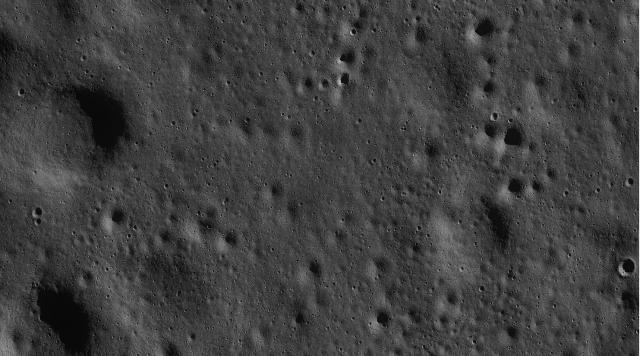crater: (41, 82, 131, 176), (433, 197, 513, 277), (24, 276, 98, 356), (473, 16, 495, 40), (105, 208, 127, 229), (502, 128, 524, 148), (616, 256, 636, 278), (155, 343, 182, 356), (76, 268, 95, 286), (506, 177, 524, 196), (622, 290, 638, 310), (220, 233, 238, 250), (290, 2, 308, 18), (306, 262, 322, 278), (300, 77, 316, 91), (484, 124, 498, 140), (267, 184, 281, 199), (376, 310, 389, 326), (338, 73, 352, 87), (426, 146, 440, 160), (486, 208, 500, 222), (481, 82, 495, 94), (158, 231, 172, 243), (408, 243, 422, 255), (318, 78, 330, 92), (32, 207, 44, 219), (293, 314, 305, 326), (506, 330, 518, 342), (530, 181, 542, 193), (485, 55, 495, 68), (338, 51, 348, 63), (350, 20, 362, 30), (190, 107, 200, 119), (489, 112, 499, 123), (433, 2, 443, 13), (626, 178, 636, 188), (16, 88, 26, 97), (188, 332, 198, 340), (80, 54, 88, 63), (34, 217, 41, 227), (206, 223, 214, 231), (562, 190, 570, 198), (340, 4, 348, 12), (414, 14, 422, 22), (308, 49, 316, 57), (366, 159, 374, 167), (175, 288, 182, 297), (349, 28, 356, 36), (479, 285, 486, 293), (402, 16, 410, 23), (596, 186, 602, 194), (245, 116, 251, 124), (164, 182, 170, 190), (132, 224, 138, 232), (171, 120, 177, 128), (312, 96, 320, 102), (416, 224, 422, 232), (126, 232, 132, 239), (508, 118, 514, 124), (196, 210, 202, 216), (356, 118, 362, 124), (370, 158, 378, 162)
